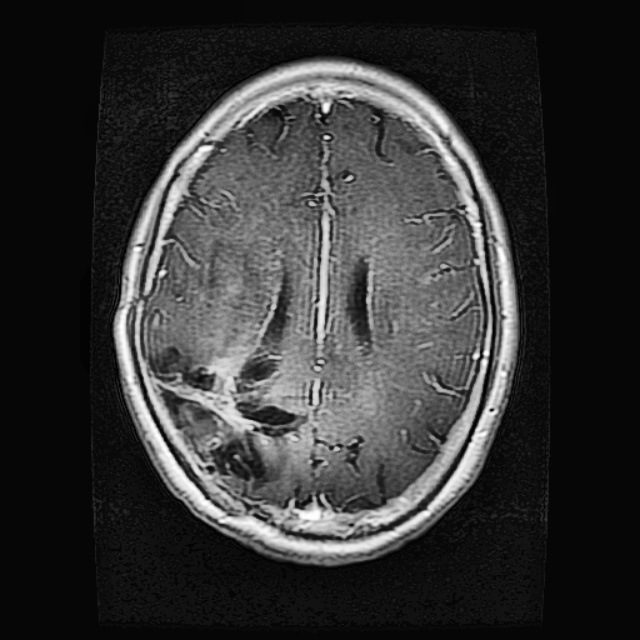Glioma: (149, 345, 308, 488)
